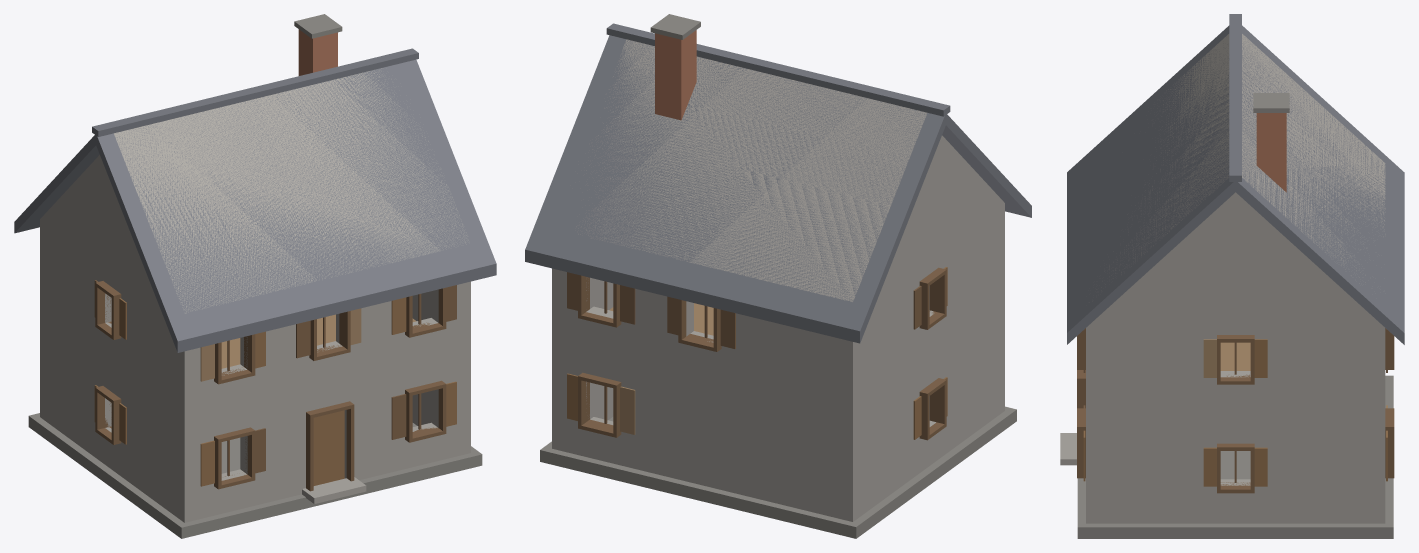
The model's file is House_Stone2.fbx.
3 renders of one model, left to right at view 1: azimuth 30°, elevation 25°; view 2: azimuth 150°, elevation 25°; view 3: azimuth 270°, elevation 25°, orthographic. The views are drawn at different scales.
Visible parts, largest first — view 1: House_Stone2; view 2: House_Stone2; view 3: House_Stone2.
Part boxes in pixels (x1,y1,x2,y2): House_Stone2: (14, 14, 496, 538); House_Stone2: (525, 14, 1031, 538); House_Stone2: (1060, 14, 1404, 538).
Size of the model in its own units: 8.95 by 8.05 by 10.4.
